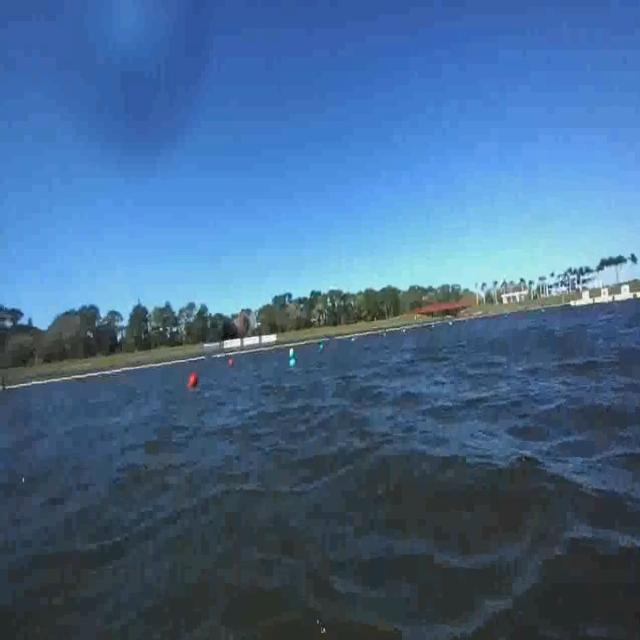green-buoy: (288, 354, 298, 372)
red-buoy: (187, 373, 198, 389), (228, 358, 234, 368)
